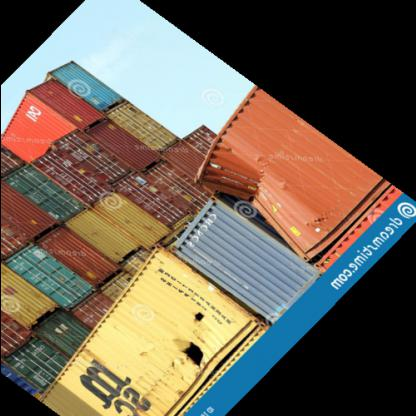Damage: (184, 176, 280, 228), (170, 286, 212, 382)
